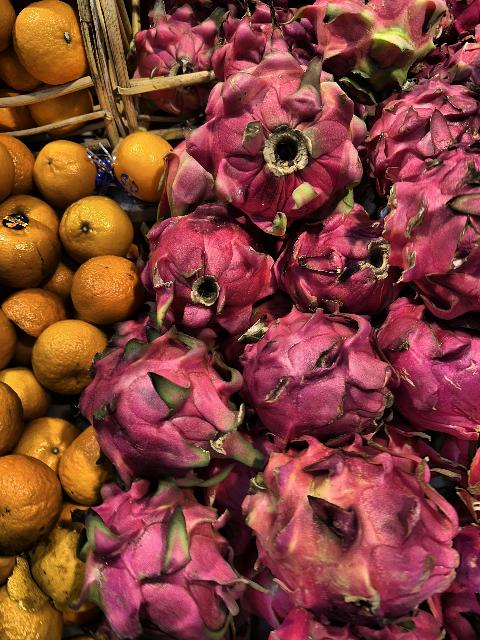buah-naga-belum-matang: (246, 437, 458, 616), (302, 0, 438, 92)
buah-naga-matang: (188, 54, 360, 226), (77, 475, 252, 639), (86, 330, 246, 498), (238, 297, 392, 439), (140, 202, 294, 332), (374, 137, 480, 305), (374, 290, 480, 430), (280, 208, 392, 316), (374, 79, 480, 171)
